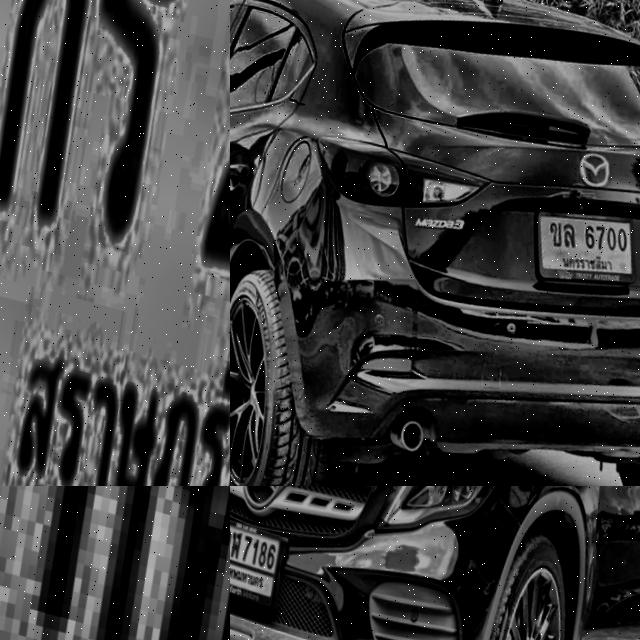license-plate: (0, 0, 230, 486), (0, 486, 230, 640), (519, 183, 640, 309), (230, 511, 284, 609)
